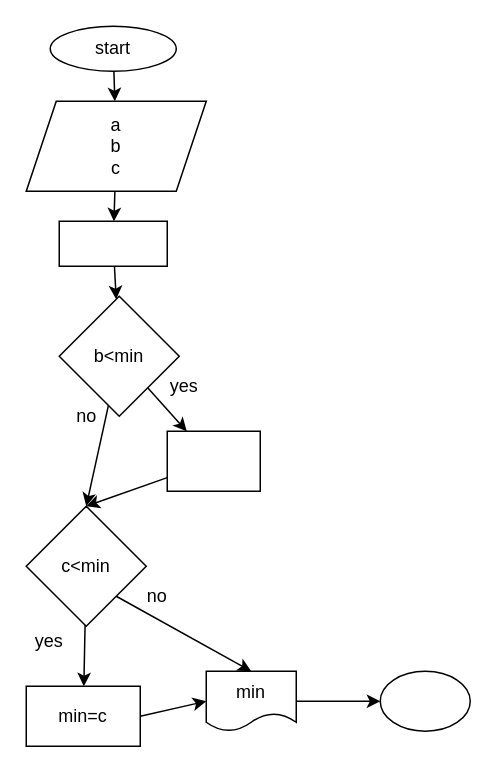
The diagram is 497 pixels wide and 773 high, and some of its shapes have lost their labels. Each missing label, with the centre of its shape:
"end" belongs at [424,700].
"min=a" belongs at [112,243].
"min=b" belongs at [213,460].
